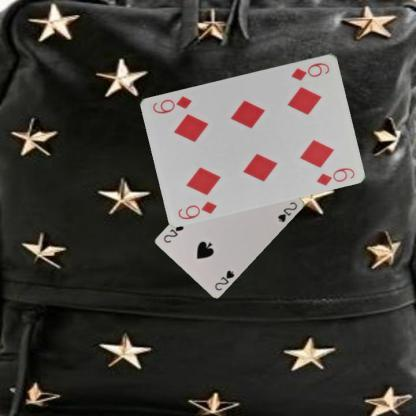2s: (212, 267, 235, 292)
6d: (175, 198, 218, 221), (289, 60, 331, 82)
